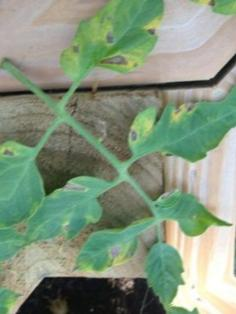Tomato Early blight leaf: (48, 0, 187, 98), (117, 81, 234, 183), (11, 163, 130, 258), (151, 167, 236, 261), (60, 209, 163, 285)
Tomato leaf: (134, 234, 203, 310)
